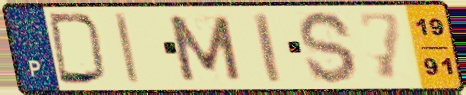7: (357, 11, 405, 84)
D: (45, 11, 109, 87)
I: (250, 11, 285, 85), (111, 10, 142, 86)
M: (164, 14, 245, 83)
S: (296, 9, 361, 86)
